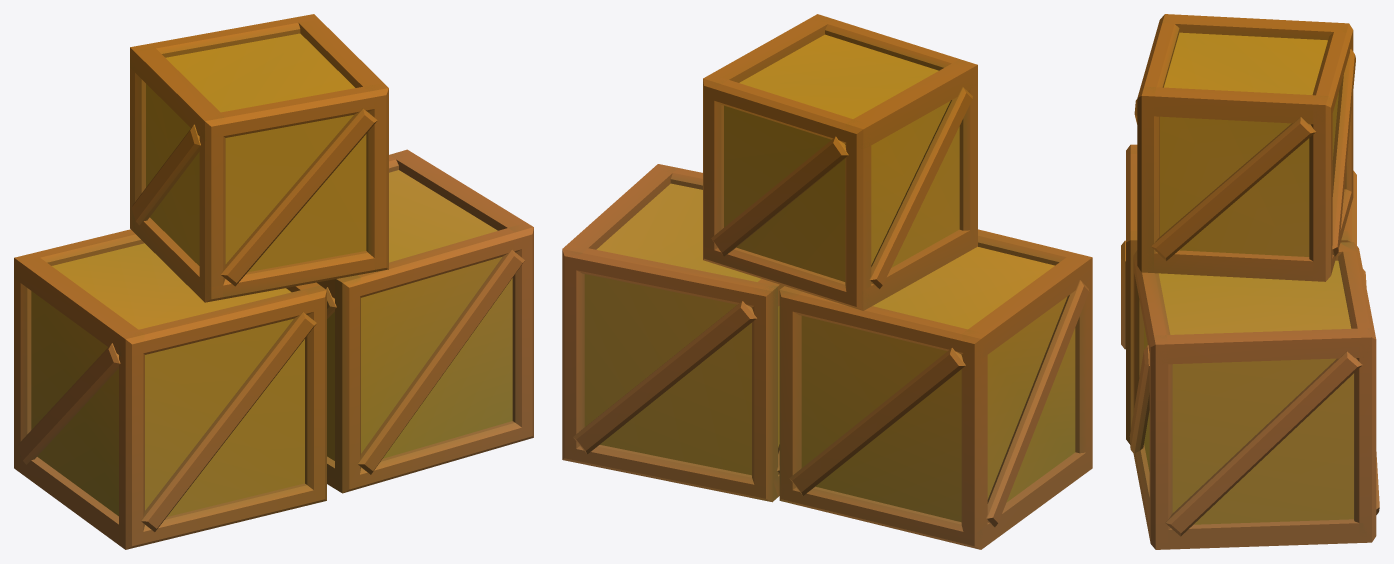
Rendered from Prop_CrateStack.glb.
3 views of the same model, side by side, from view 1: azimuth 30°, elevation 25°; view 2: azimuth 150°, elevation 25°; view 3: azimuth 270°, elevation 25° (orthographic). The views are drawn at different scales.
Visible parts, largest first — view 1: Prop_CrateStack; view 2: Prop_CrateStack; view 3: Prop_CrateStack.
Part boxes in pixels (box(x1,y1,x2,y2)): Prop_CrateStack: box(14, 14, 533, 549); Prop_CrateStack: box(562, 14, 1092, 549); Prop_CrateStack: box(1121, 14, 1379, 549).
Bounding box in the file's own units: 1.53 × 1.34 × 0.8226.
